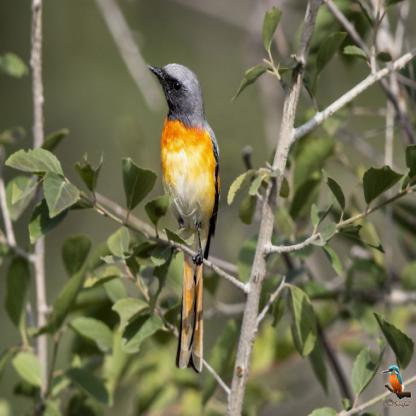Burung: (146, 62, 219, 373)
